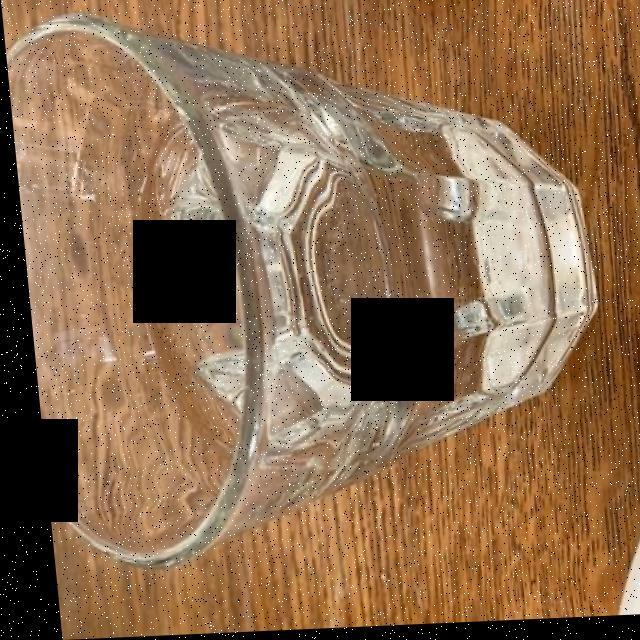water: (146, 84, 570, 482)
